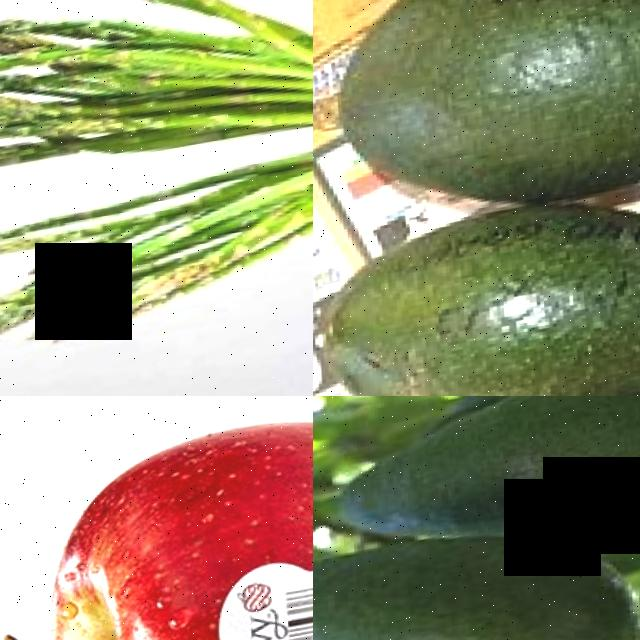apple: (4, 396, 313, 640)
avocado: (318, 0, 640, 240), (313, 163, 640, 396), (336, 396, 640, 572), (313, 515, 640, 640)
